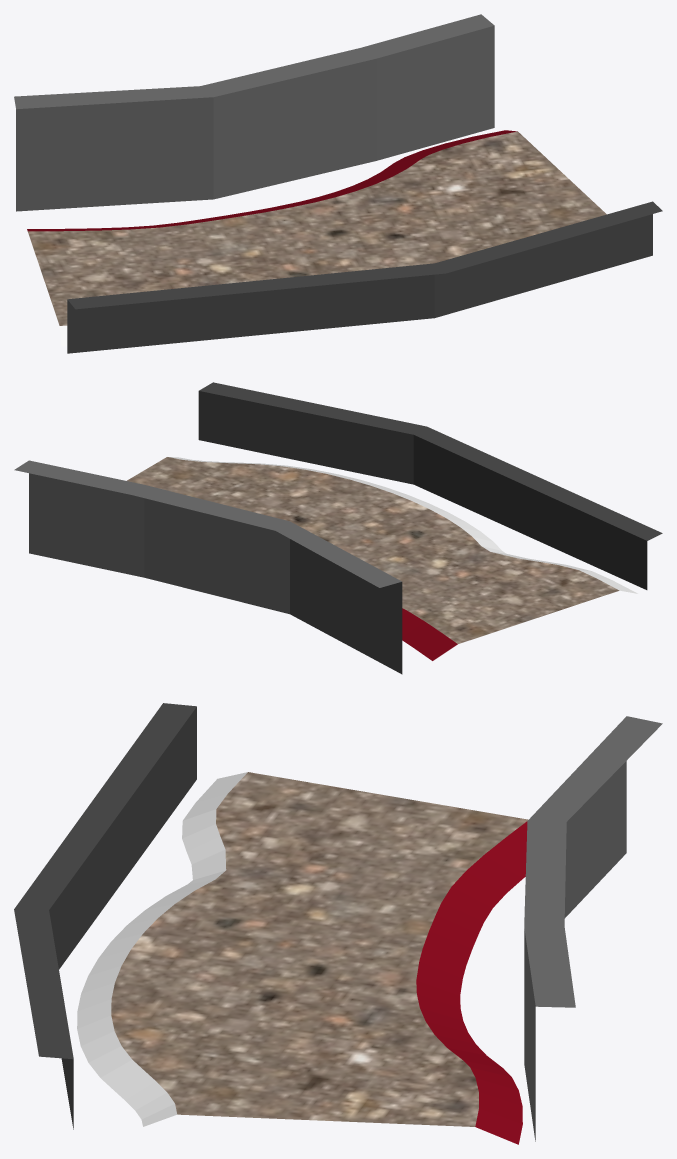
The model's file is KartTrackS21.fbx.
The picture shows the model from 3 angles, top to bottom: view 1: azimuth 30°, elevation 25°; view 2: azimuth 150°, elevation 25°; view 3: azimuth 270°, elevation 25°; orthographic projection. The views are drawn at different scales.
Visible parts, largest first — view 1: PistaS21; view 2: PistaS21; view 3: PistaS21.
Part boxes in pixels (x1=…): PistaS21: x1=14, y1=14, x2=662, y2=353; PistaS21: x1=14, y1=382, x2=662, y2=674; PistaS21: x1=14, y1=703, x2=662, y2=1144.
Size of the model in its own units: 4310 by 749 by 3214.
